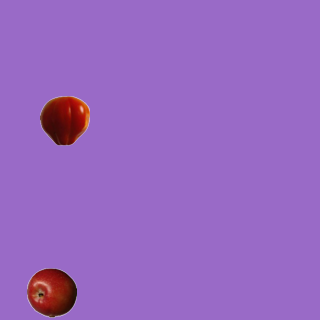Apple Braeburn: (26, 267, 76, 317)
Tomato 1: (39, 95, 89, 145)
